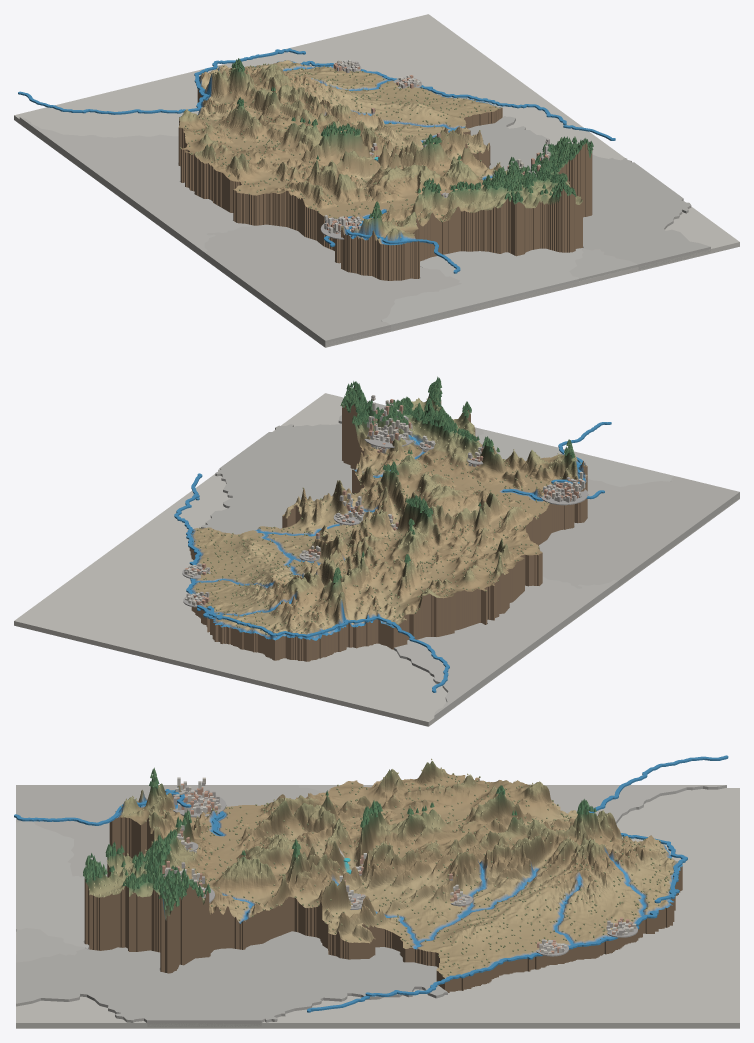
Rendered from coahuila-mapa.glb.
The picture shows the model from 3 angles, top to bottom: view 1: azimuth 30°, elevation 25°; view 2: azimuth 150°, elevation 25°; view 3: azimuth 270°, elevation 25°; orthographic projection. The views are drawn at different scales.
Visible parts, largest first — view 1: geometry_0; view 2: geometry_0; view 3: geometry_0.
Boxes of the visible parts, bbox=[...] form: geometry_0: bbox=[14, 14, 739, 347]; geometry_0: bbox=[14, 376, 739, 726]; geometry_0: bbox=[14, 755, 739, 1028].
Bounding box in the file's own units: 1.87 × 0.3835 × 2.42.
